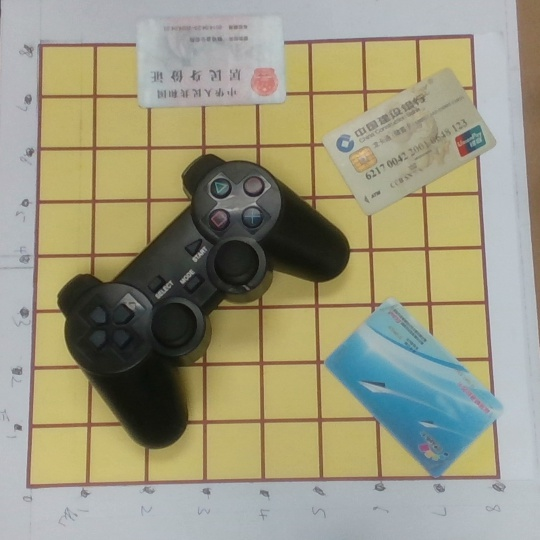card: (325, 295, 505, 482), (321, 66, 500, 214), (135, 15, 288, 108)
remote: (59, 153, 349, 451)
